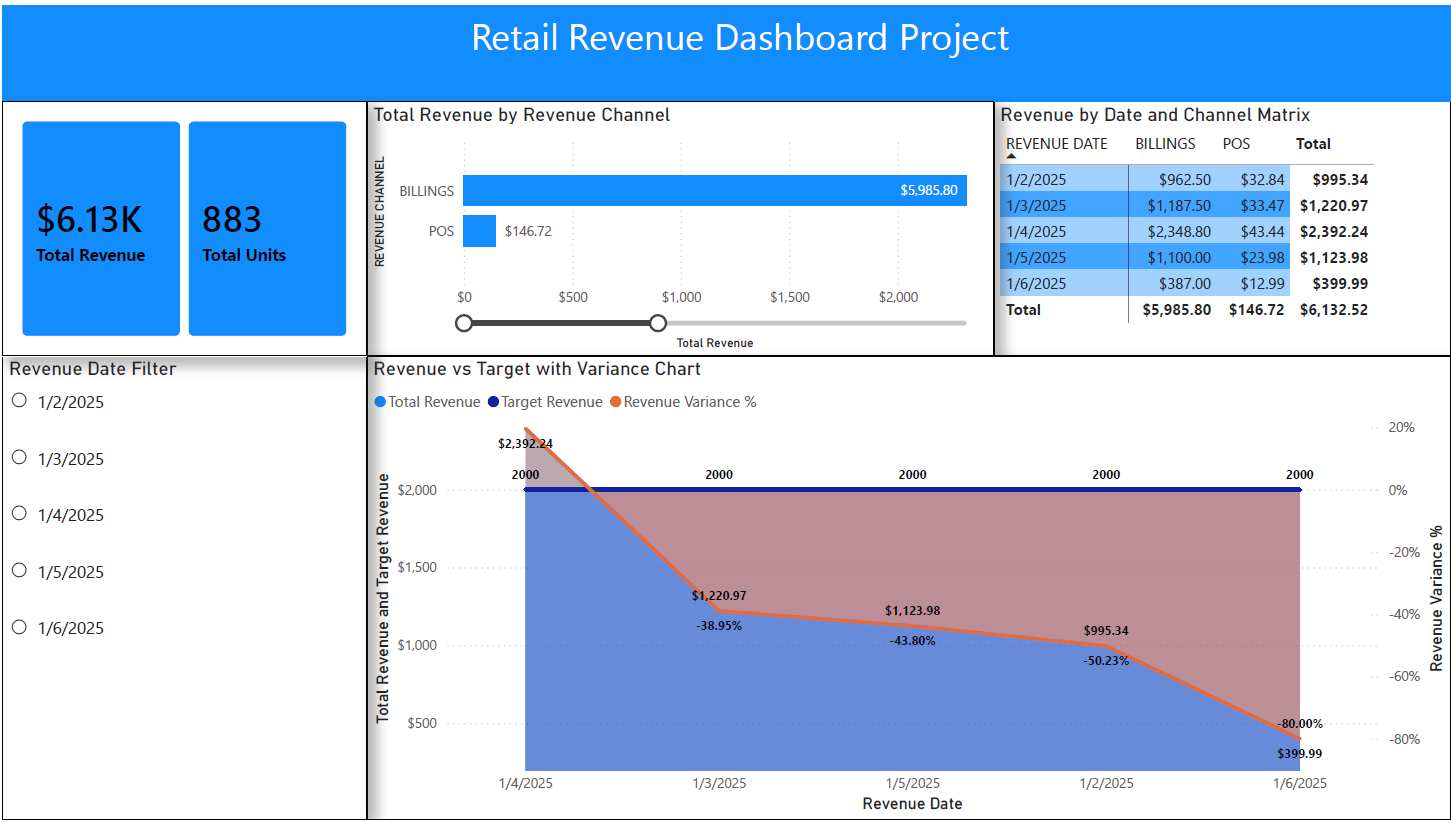

The page's visual inventory and layout, read from the dashboard file:
{"tool":"powerbi","page":{"name":"Page 1","canvas":[1280,720],"ordinal":0},"visuals":[{"type":"lineChart","fields":{"Category":["RPT_DAILY_REVENUE.REVENUE_DATE.Variation.Date Hierarchy.Day"],"Y":["Sum(RPT_DAILY_REVENUE.REVENUE_AMOUNT)"],"Series":["RPT_DAILY_REVENUE.REVENUE_CHANNEL"]},"box":[409,416.4,871,303.8],"z":0},{"type":"cardVisual","fields":{"Data":["RPT_DAILY_REVENUE.Total Revenue"]},"box":[0,85,409,109.4],"z":1000},{"type":"cardVisual","fields":{"Data":["RPT_DAILY_REVENUE.Total Units"]},"box":[0,194.4,409,109.4],"z":2000},{"type":"pivotTable","fields":{"Rows":["RPT_DAILY_REVENUE.REVENUE_DATE"],"Columns":["RPT_DAILY_REVENUE.REVENUE_CHANNEL"],"Values":["RPT_DAILY_REVENUE.Total Revenue"]},"box":[858.3,85,421.7,331.4],"z":3000},{"type":"cardVisual","title":"KPI: Revenue Variance","fields":{"Data":["RPT_DAILY_REVENUE.Revenue Variance %"]},"box":[0,303.8,409,112.6],"z":4500},{"type":"textbox","box":[0,0,1280,85.1],"z":5000},{"type":"lineChart","fields":{"Category":["RPT_DAILY_REVENUE.REVENUE_DATE"],"Y":["RPT_DAILY_REVENUE.Total_Revenue"]},"box":[205,303.8,185.9,103],"z":7000},{"type":"listSlicer","fields":{"Values":["RPT_DAILY_REVENUE.REVENUE_DATE"]},"box":[0,416.4,409,303.8],"z":8000},{"type":"textbox","box":[22.3,303.8,159.3,34],"z":9000},{"type":"barChart","fields":{"Category":["RPT_DAILY_REVENUE.REVENUE_DATE","RPT_DAILY_REVENUE.REVENUE_CHANNEL"],"Y":["RPT_DAILY_REVENUE.Total Revenue"]},"box":[409,85,449.3,331.4],"z":10000}]}

Visuals, with their boxes in screenshot pixels (x1, y1, x2, y2), scaled from the page's 1280x720 canvas onto the 1451x822 screenshot:
lineChart - RPT_DAILY_REVENUE.REVENUE_DATE.Variation.Date Hierarchy.Day x Sum(RPT_DAILY_REVENUE.REVENUE_AMOUNT): 464:475:1450:821
cardVisual - RPT_DAILY_REVENUE.Total Revenue: 0:97:464:222
cardVisual - RPT_DAILY_REVENUE.Total Units: 0:222:464:347
pivotTable - RPT_DAILY_REVENUE.REVENUE_DATE x RPT_DAILY_REVENUE.REVENUE_CHANNEL: 973:97:1450:475
"KPI: Revenue Variance" cardVisual: 0:347:464:475
textbox: 0:0:1450:97
lineChart - RPT_DAILY_REVENUE.REVENUE_DATE x RPT_DAILY_REVENUE.Total_Revenue: 232:347:443:464
listSlicer - RPT_DAILY_REVENUE.REVENUE_DATE: 0:475:464:821
textbox: 25:347:206:386
barChart - RPT_DAILY_REVENUE.REVENUE_DATE x RPT_DAILY_REVENUE.REVENUE_CHANNEL: 464:97:973:475
